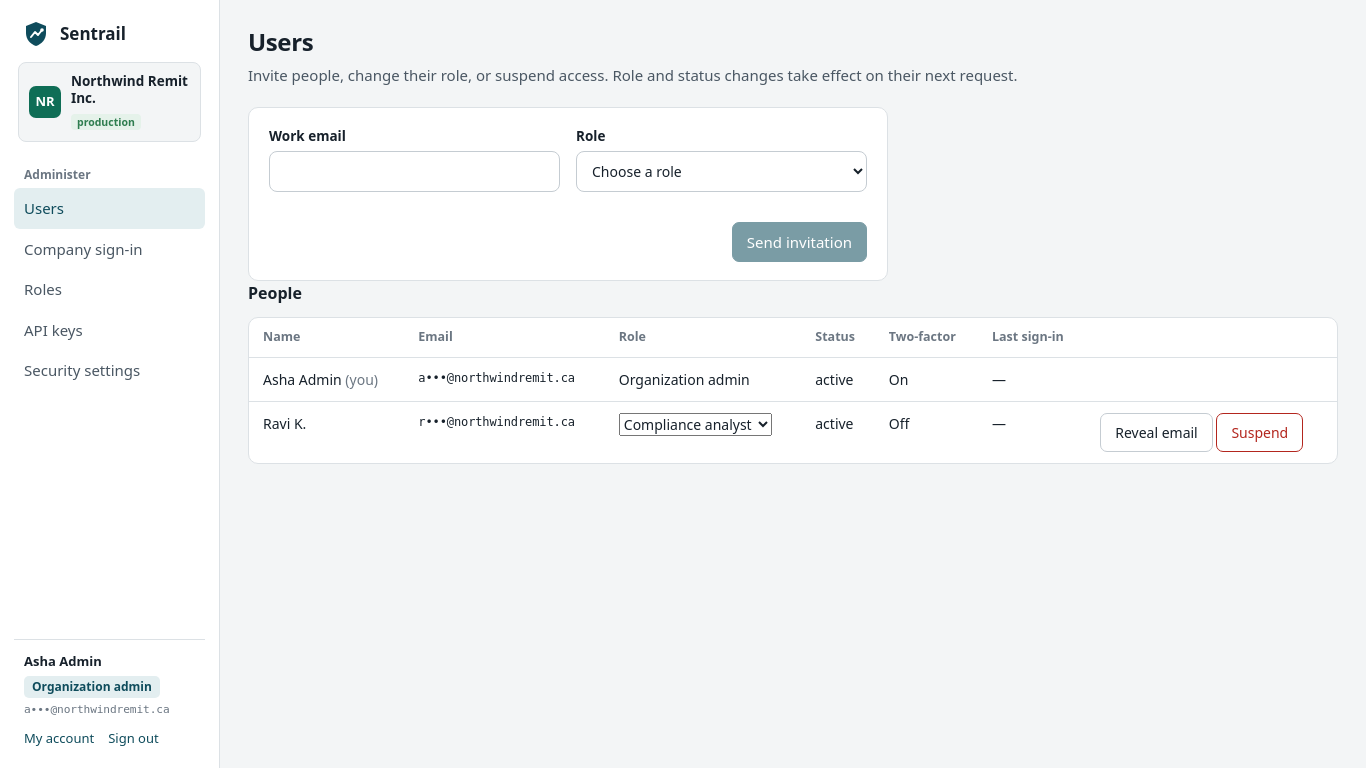
Test case: Users › invites with the chosen role and offers no controls on your own row
Type "new@example.com" into the field labelled "Work email" at (414, 171), box [269, 151, 560, 192]
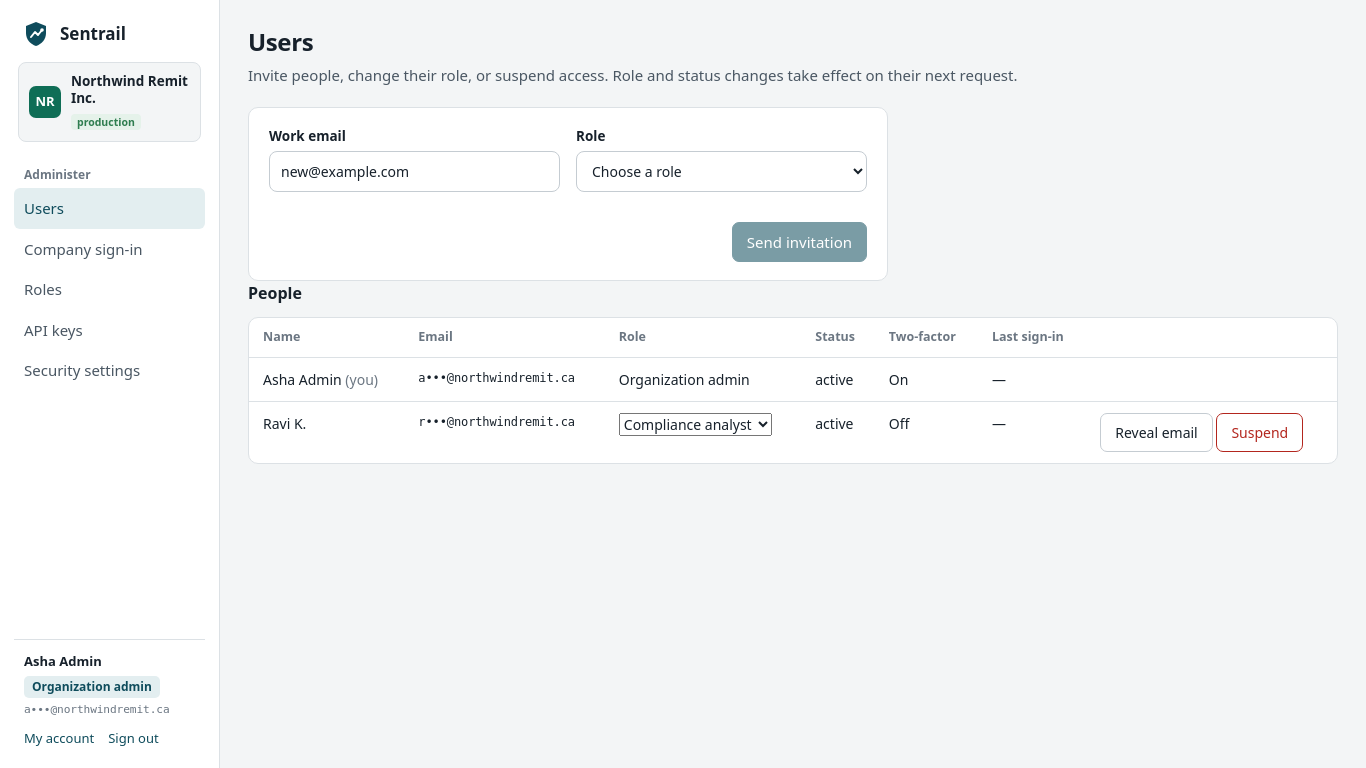
Select "Compliance analyst" in the dropdown labelled "Role" at (722, 171), box [576, 151, 867, 192]
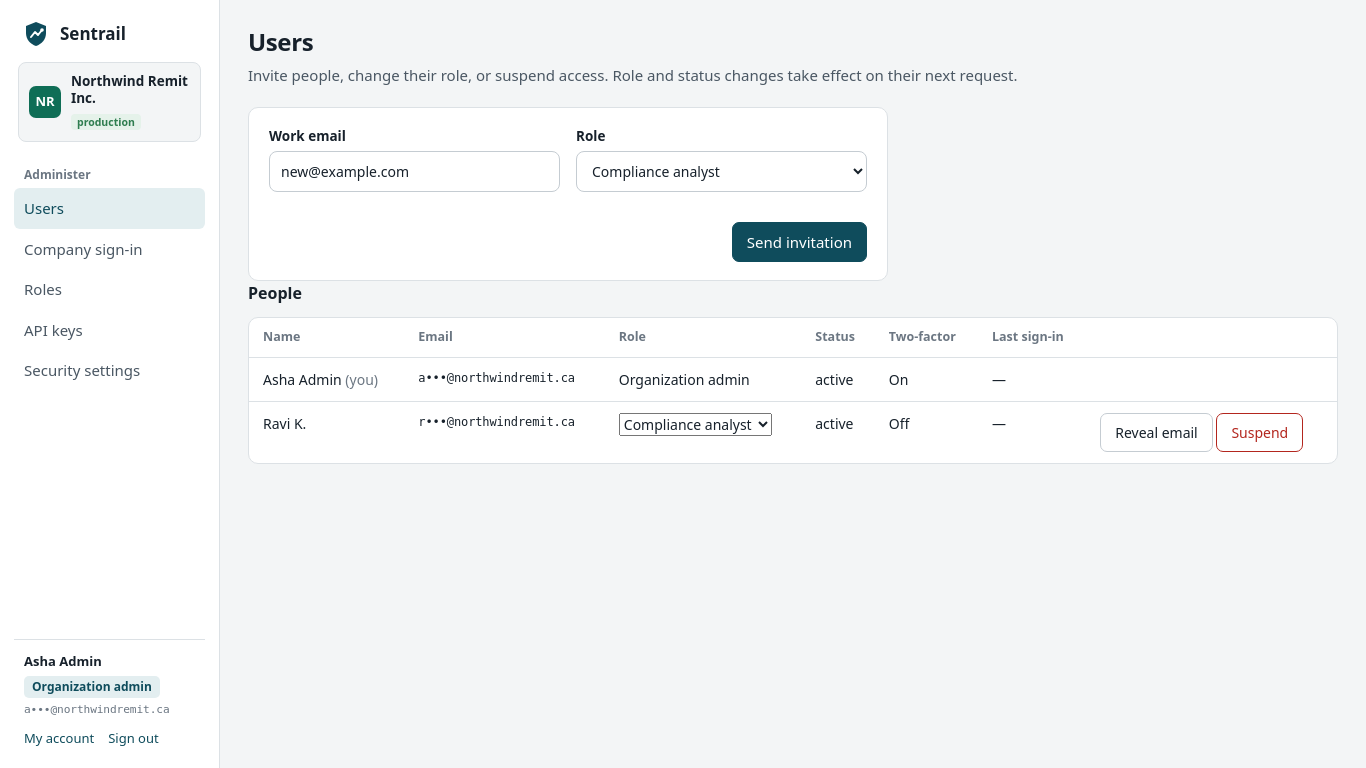
Click the button "Send invitation" at (799, 242), box [732, 222, 867, 262]
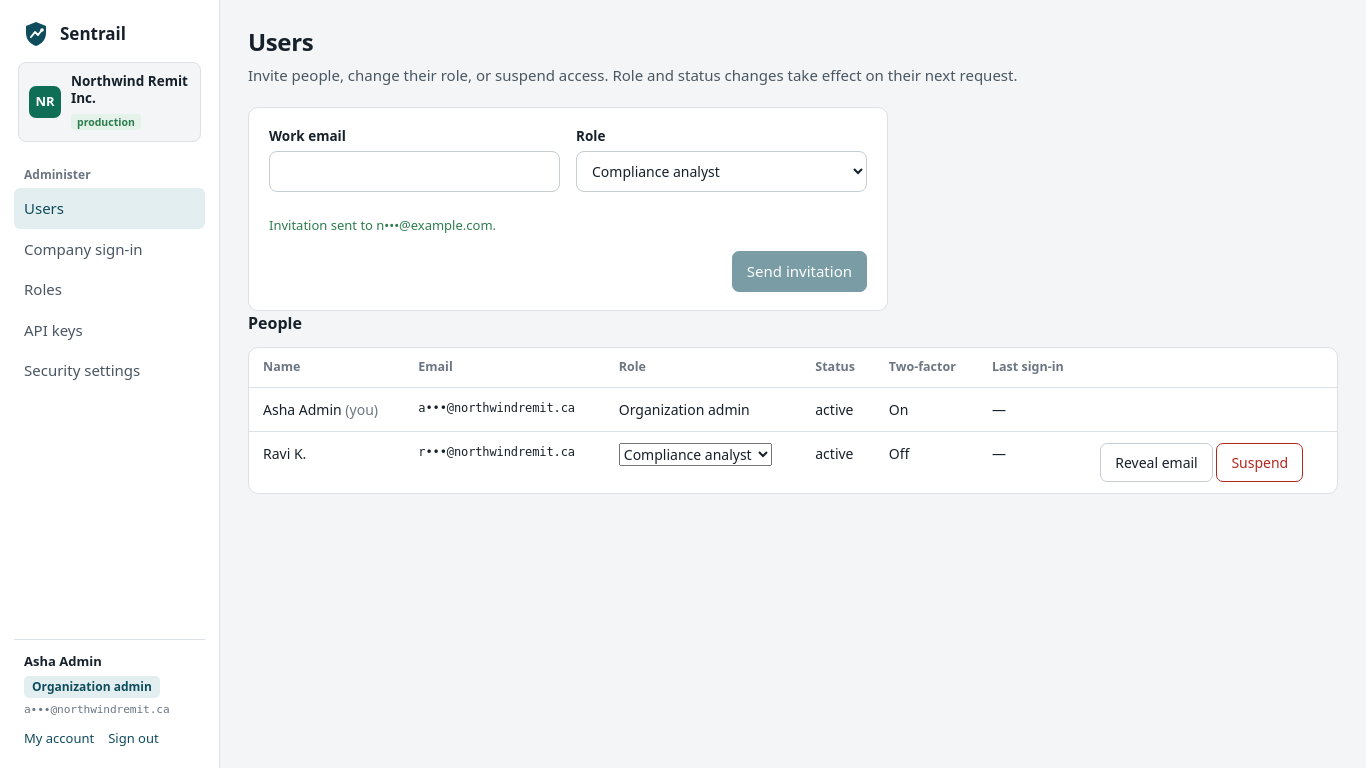
Expected: the text "Invitation sent to n•••@example.com." is shown, [269, 216, 496, 234]
